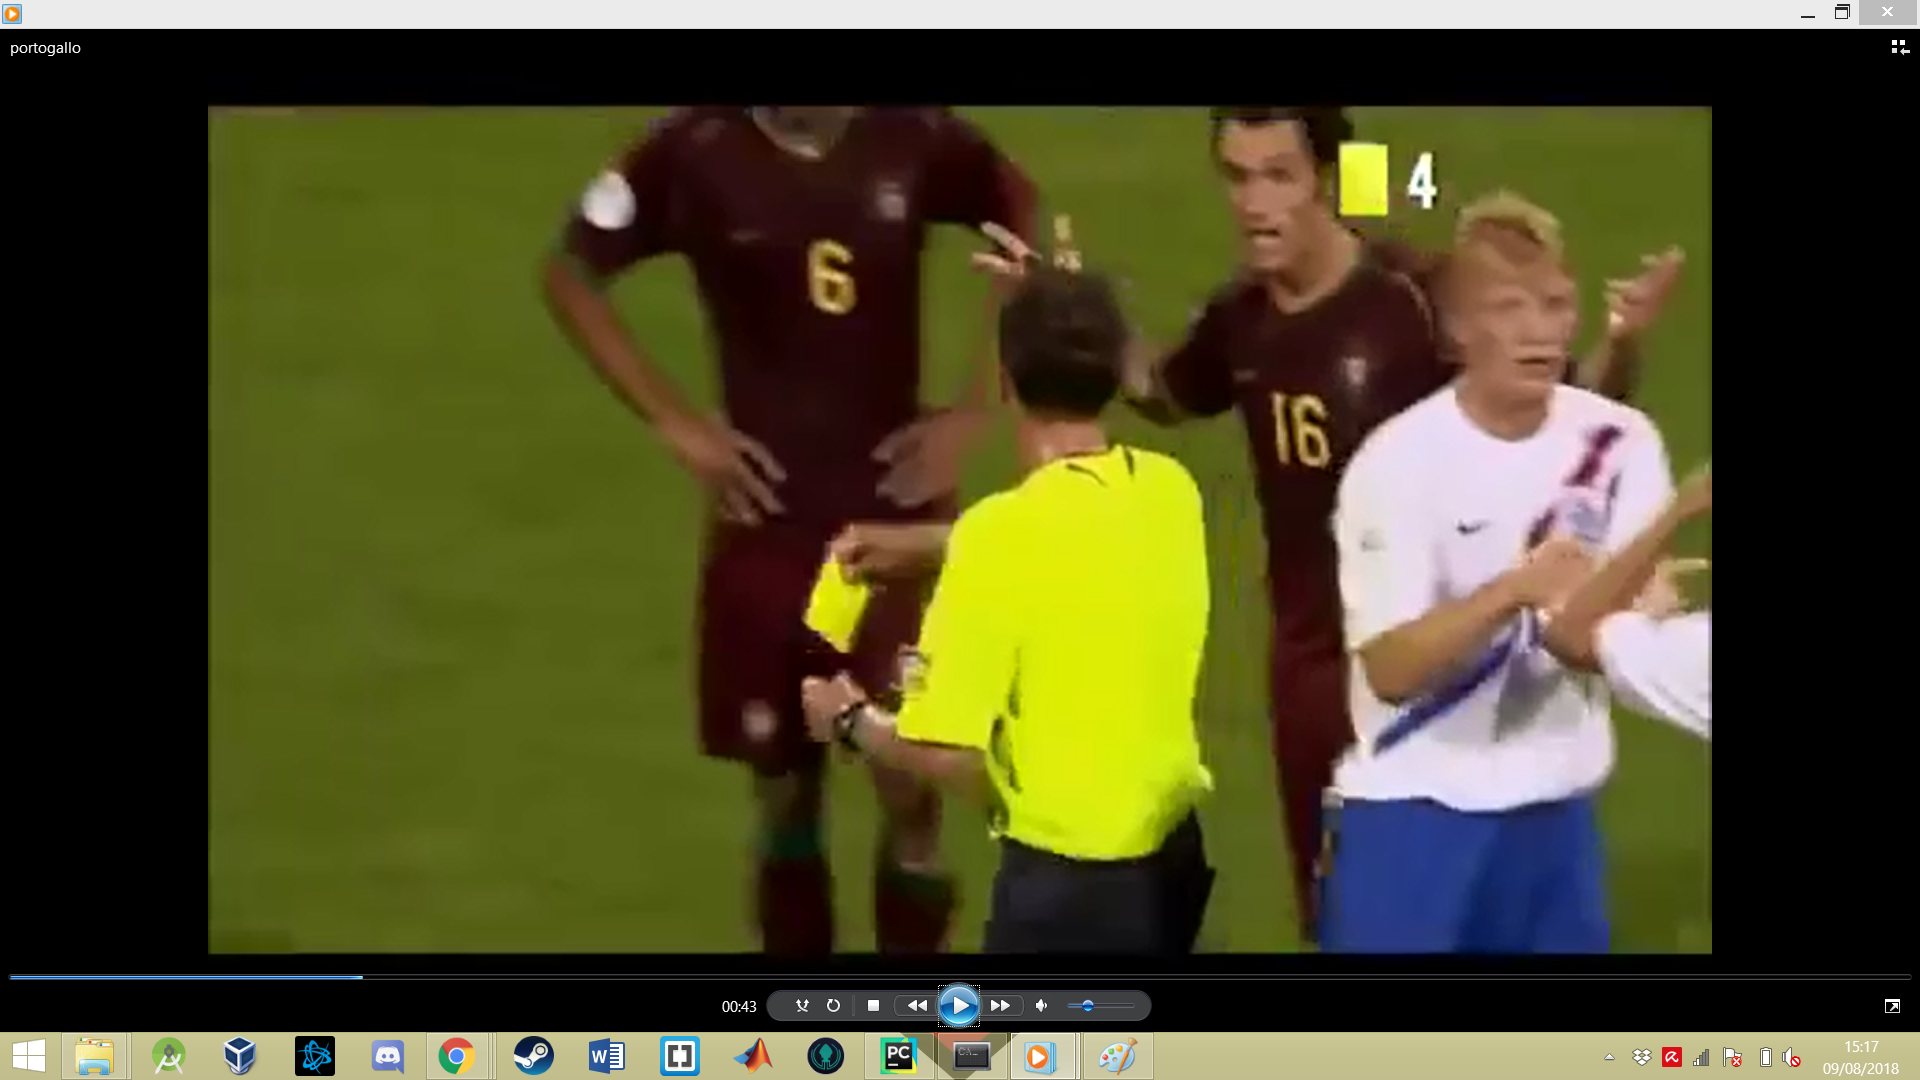yellow_card: (783, 514, 913, 650)
